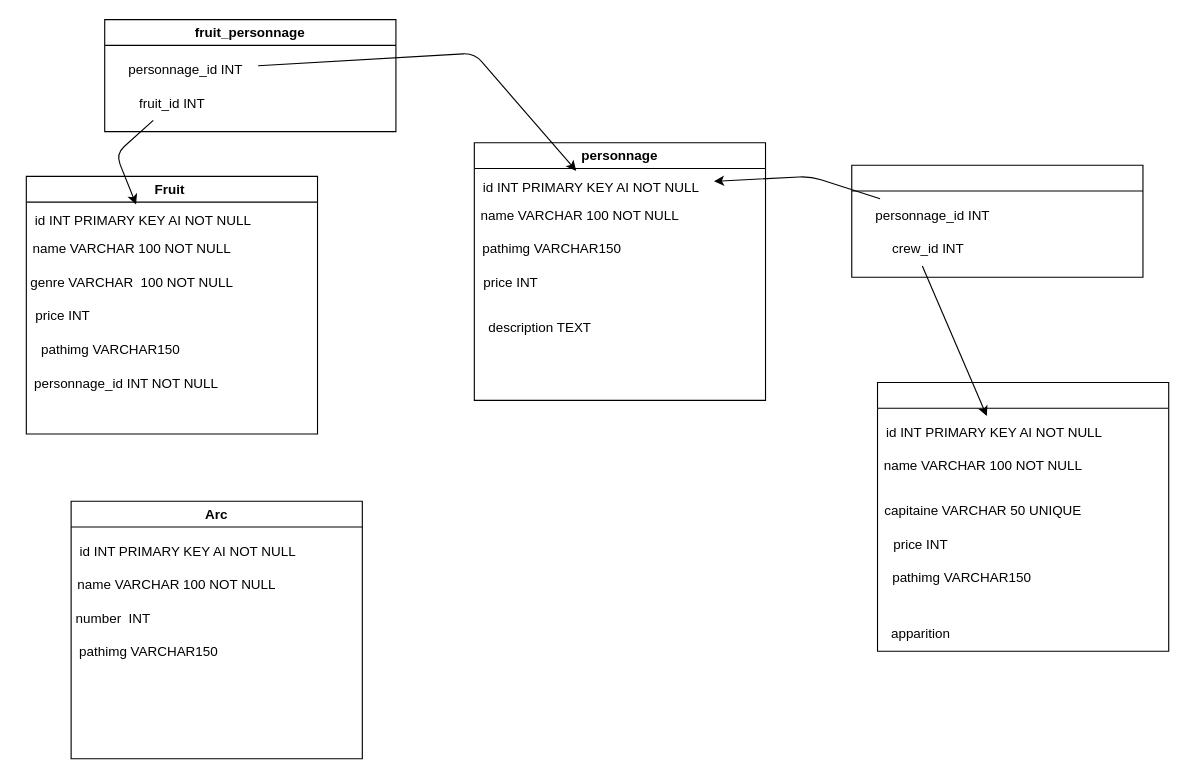
The diagram is 1188 pixels wide and 778 high, and some of its shapes have lost their labels. The box of each missing label's shape, as (x1, y1, x2, y2) in pixels:
crew: (876, 381, 1169, 651)
personnage_crew: (851, 164, 1143, 277)
